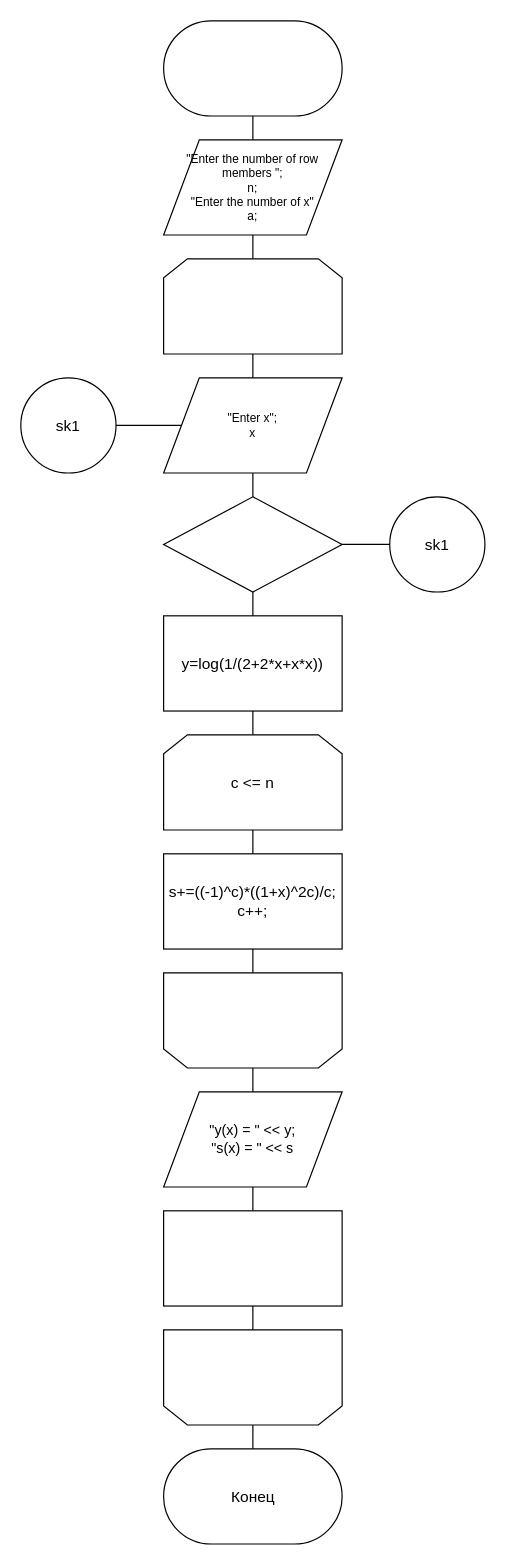
Some shapes in this 506 by 1565 pixel diagram are drawn without their labels. The centre of each missing label's shape, as x and y in pixels:
i <= a: the point at 252,306
i++;: the point at 252,1258
x>=0.1 && x <=1: the point at 252,544
Начало: the point at 252,68
